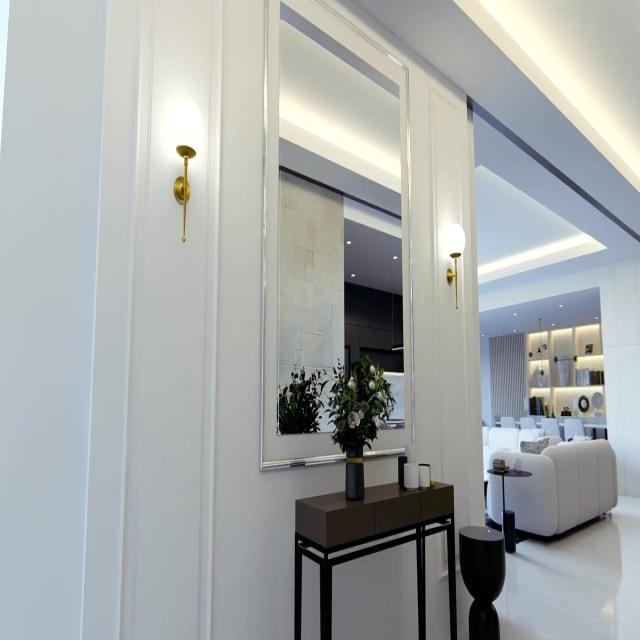obstacle: (294, 479, 456, 638), (482, 426, 618, 540), (526, 321, 606, 420), (486, 467, 532, 553)
